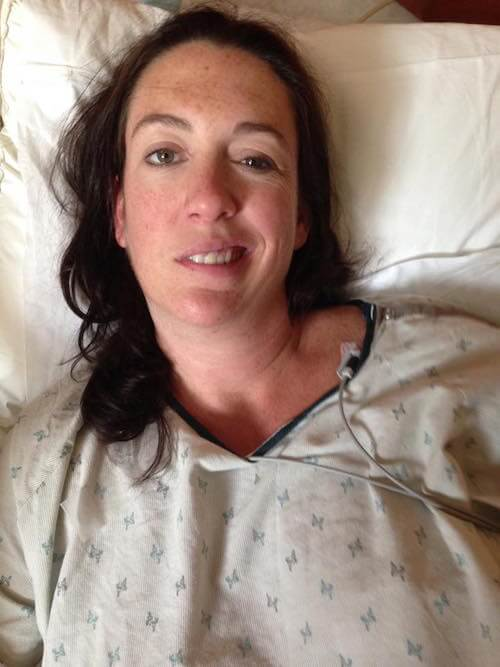stroke: (137, 97, 278, 329)
